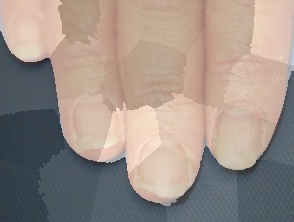Nail_psoriasis: (205, 131, 260, 176)
